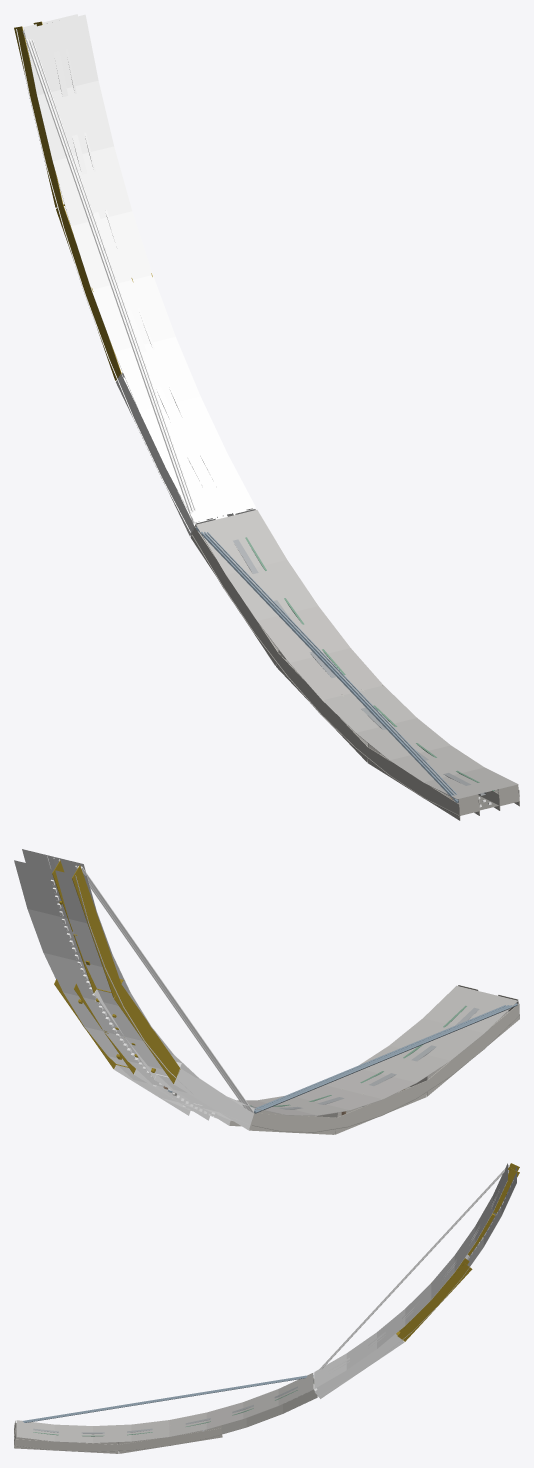
The model's file is xuanshu_interior_C53.glb.
The picture shows the model from 3 angles, top to bottom: view 1: azimuth 30°, elevation 25°; view 2: azimuth 150°, elevation 25°; view 3: azimuth 270°, elevation 25°; orthographic projection. The views are drawn at different scales.
Parts seen in each view (by area): view 1: UNIT-REC-004_S0; view 2: UNIT-REC-004_S0; view 3: UNIT-REC-004_S0.
Boxes of the visible parts, left/top/right/bottom form: UNIT-REC-004_S0: left=14, top=14, right=519, bottom=820; UNIT-REC-004_S0: left=14, top=849, right=519, bottom=1134; UNIT-REC-004_S0: left=14, top=1163, right=519, bottom=1453.
Size of the model in its own units: 13.31 by 100 by 167.
